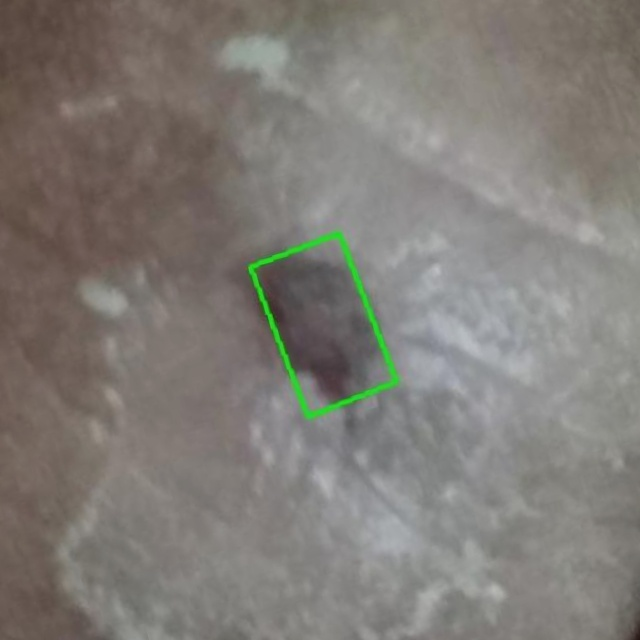Tinea Corporis: (250, 233, 396, 417)
